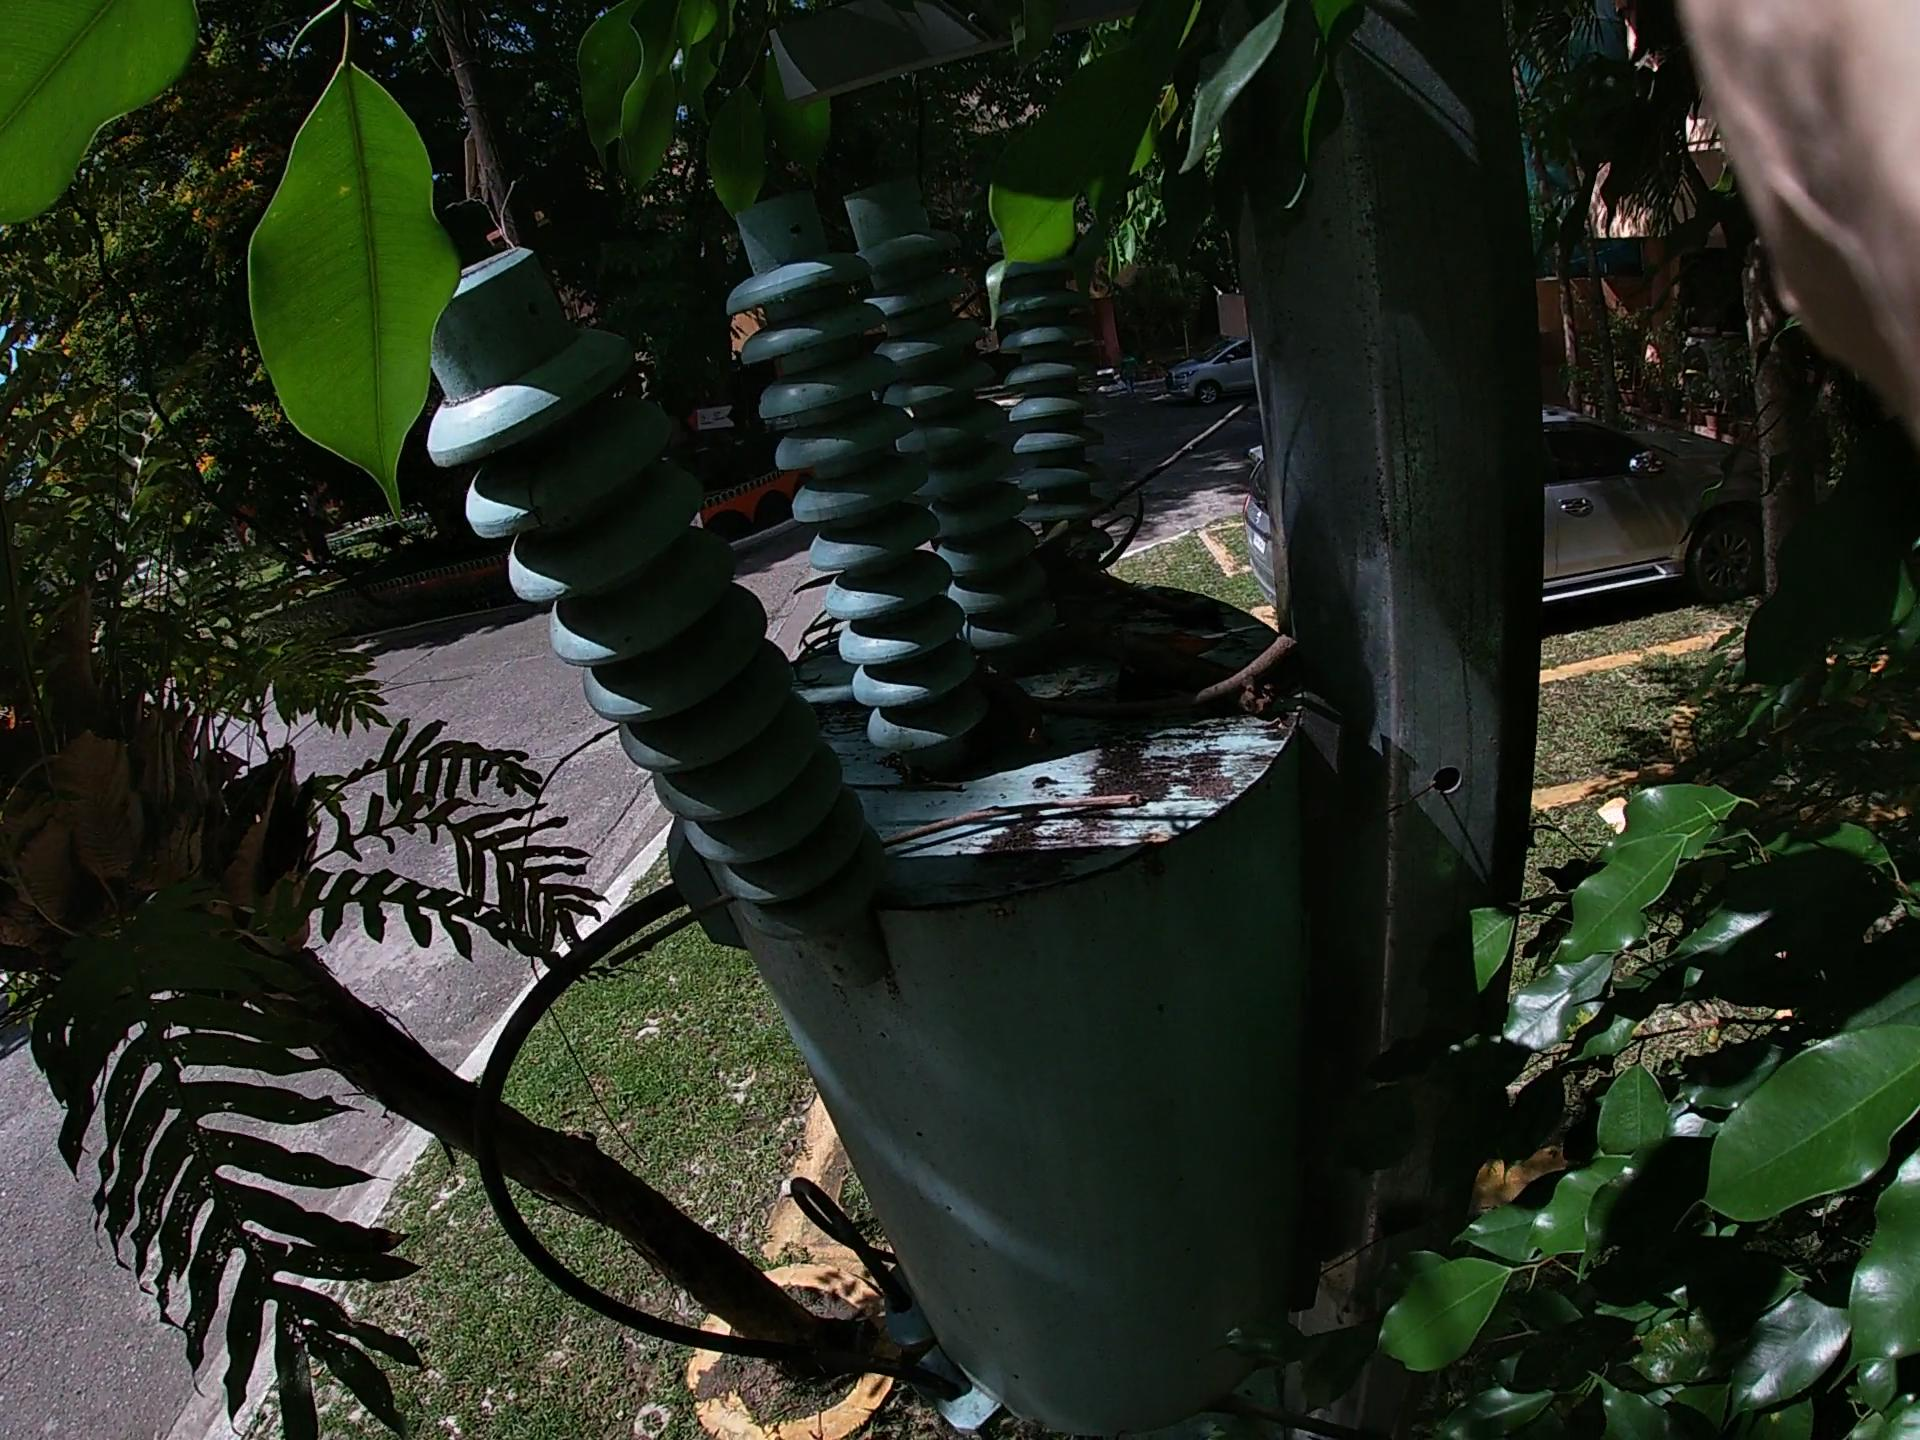branch with leaves: (1002, 546, 1361, 740)
leaf: (1120, 594, 1270, 740)
tree branch: (741, 743, 1232, 942), (999, 369, 1203, 656), (1037, 597, 1373, 771)
